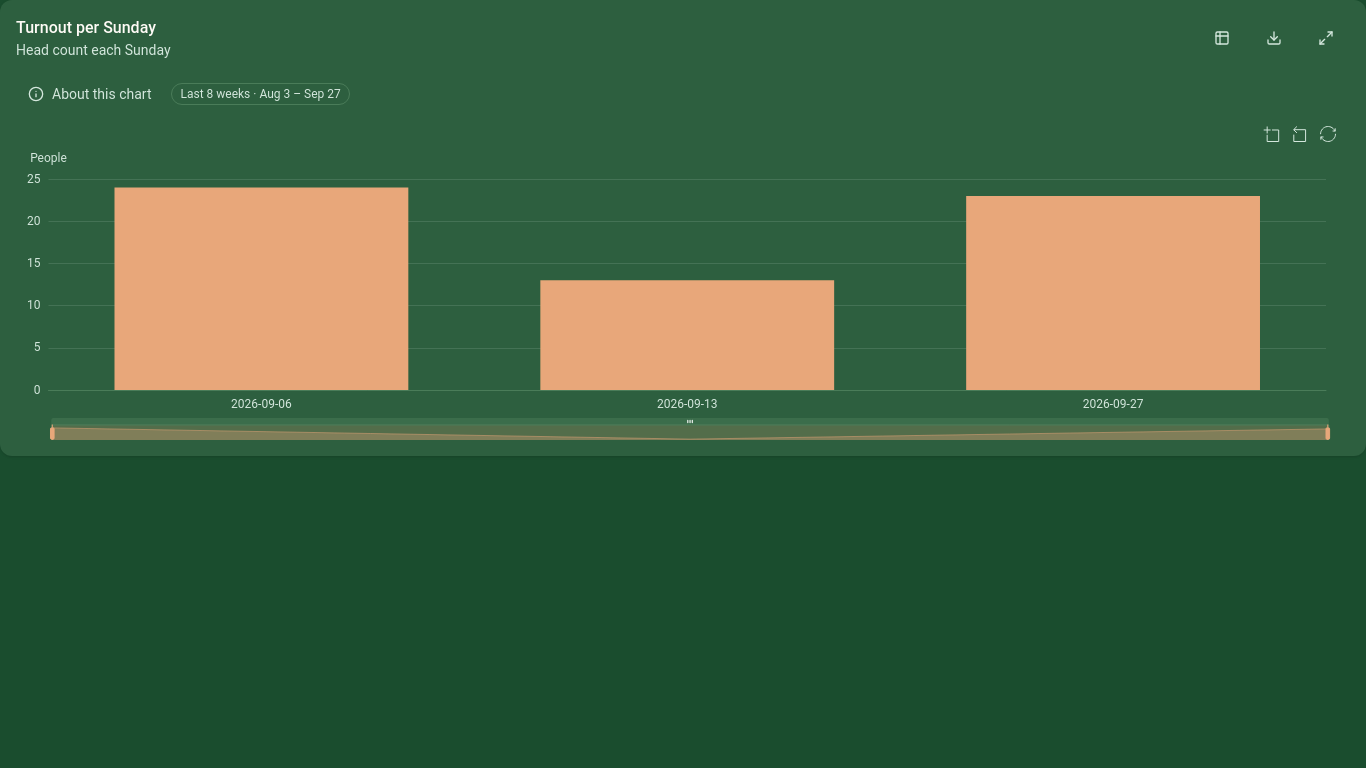
it: TurnoutChart › explains itself and tags the time window
Click the button "About this chart" at (90, 94), box [16,72,164,116]
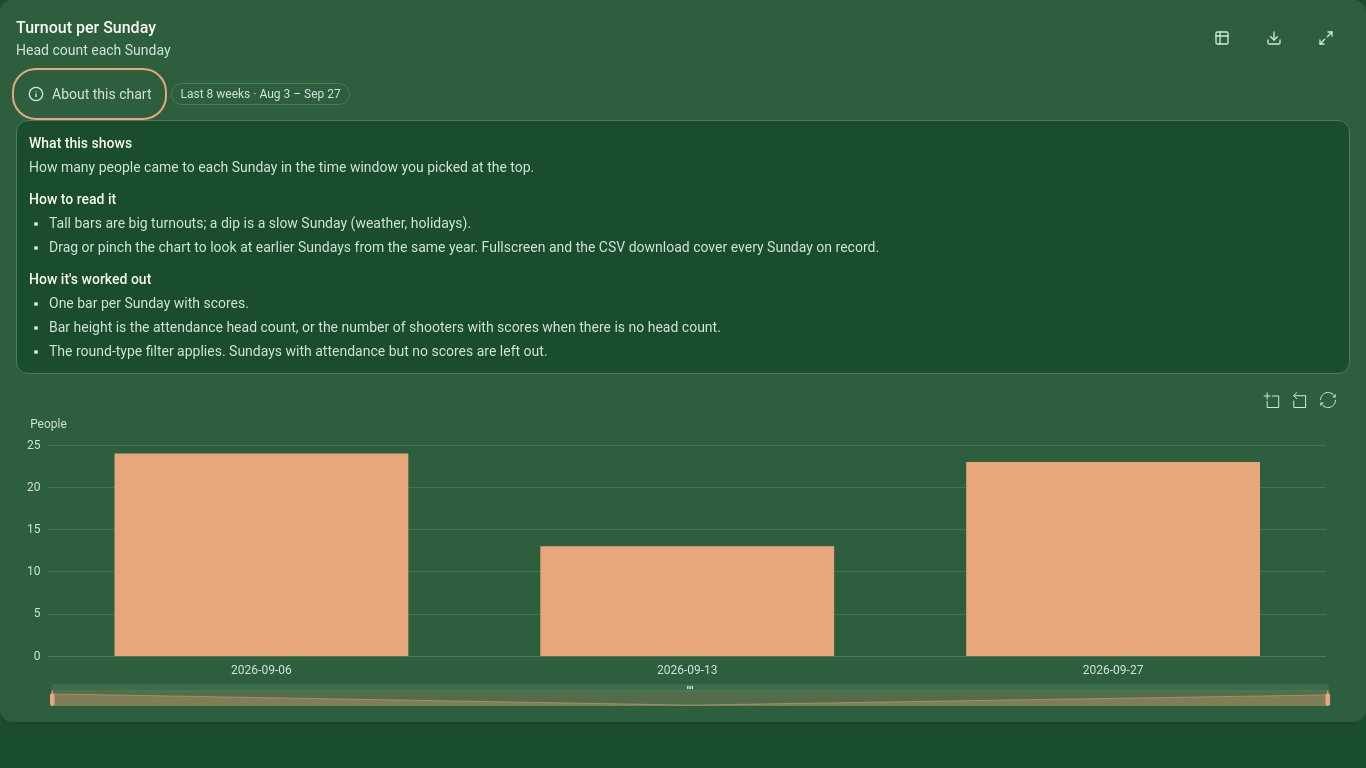
Expected: the button "About this chart" is expanded
Expected: the heading "What this shows" is shown, [29,135,132,151]
Expected: the heading "How it's worked out" is shown, [29,271,151,287]
Click the button "About this chart" at (90, 94), box [16,72,164,116]
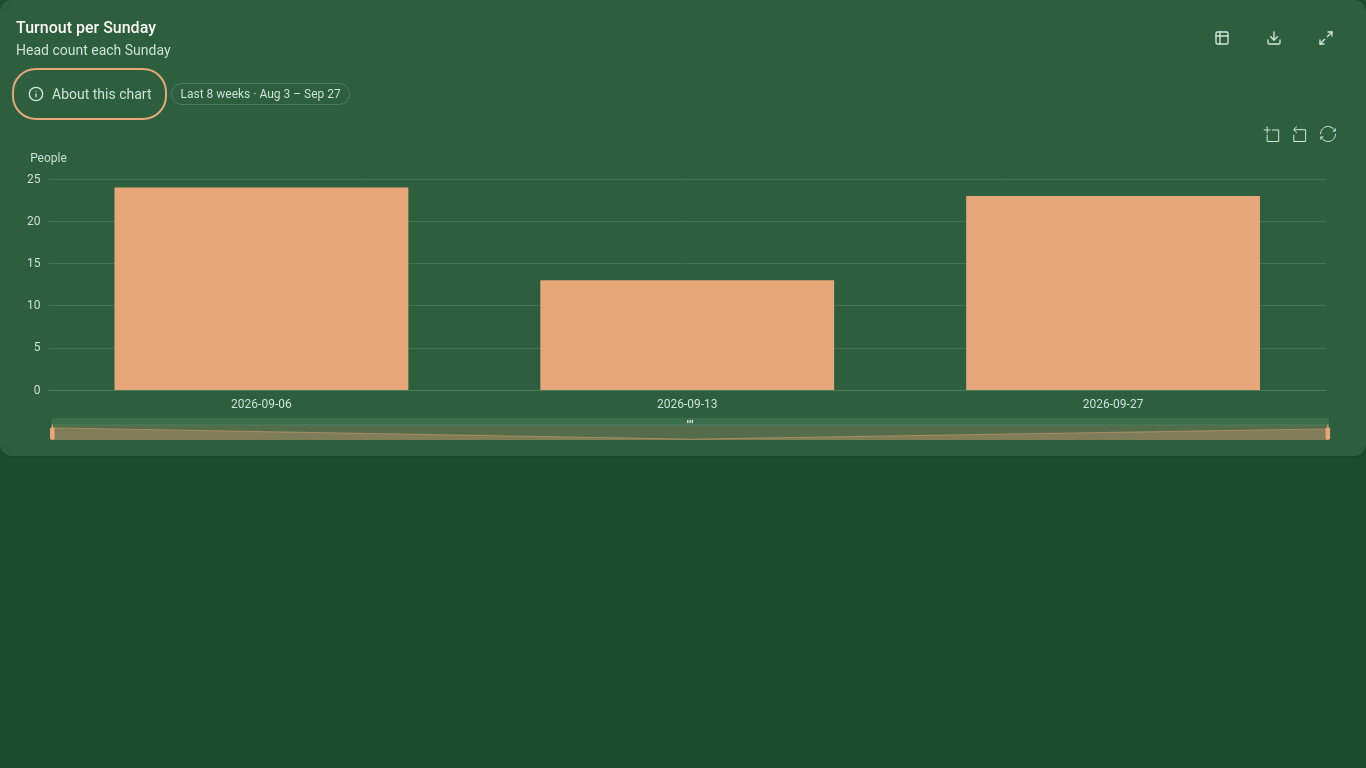
Expected: the element "Turnout per Sunday" shows "Last 8 weeks · Aug 3 – Sep 27", [180,87,341,101]
Expected: the heading "What this shows" is gone
